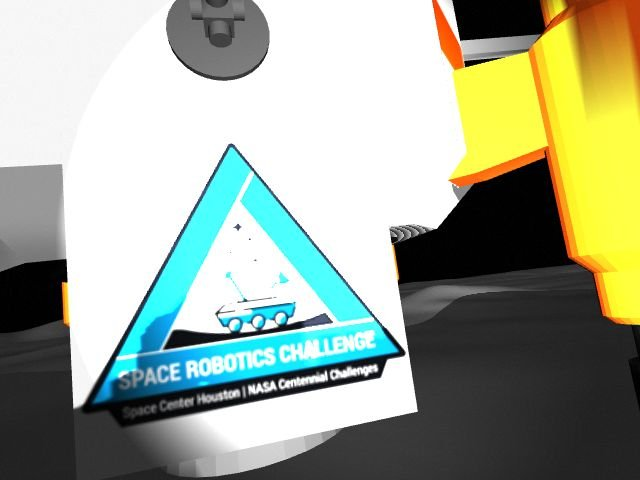basemarker: (81, 142, 407, 429)
